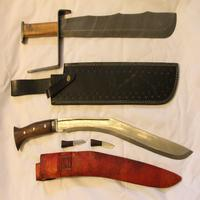knife: (8, 112, 193, 161), (15, 5, 181, 49)
